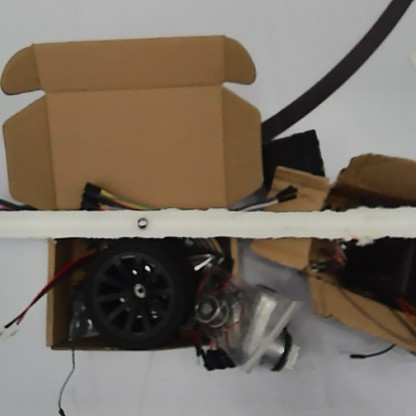ironball: (134, 214, 149, 229)
